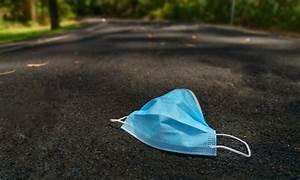Mask: (111, 89, 250, 156)
